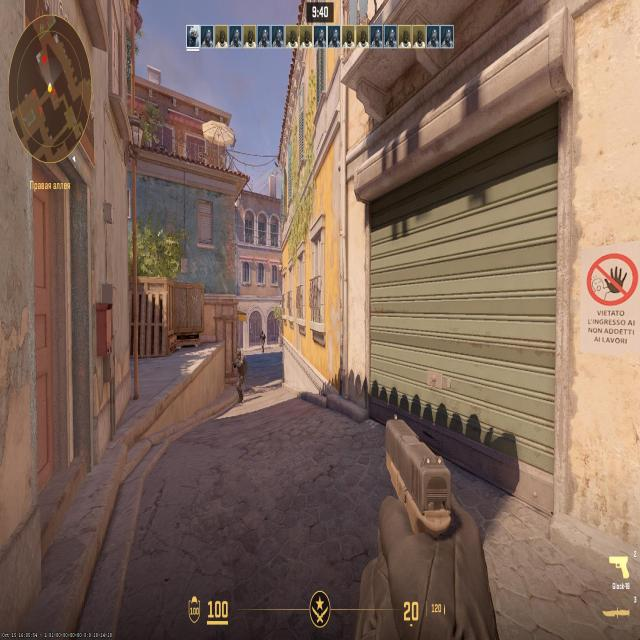CT: (235, 348, 243, 401), (260, 331, 265, 353)
CT_heat: (238, 351, 241, 361), (262, 332, 263, 336)
